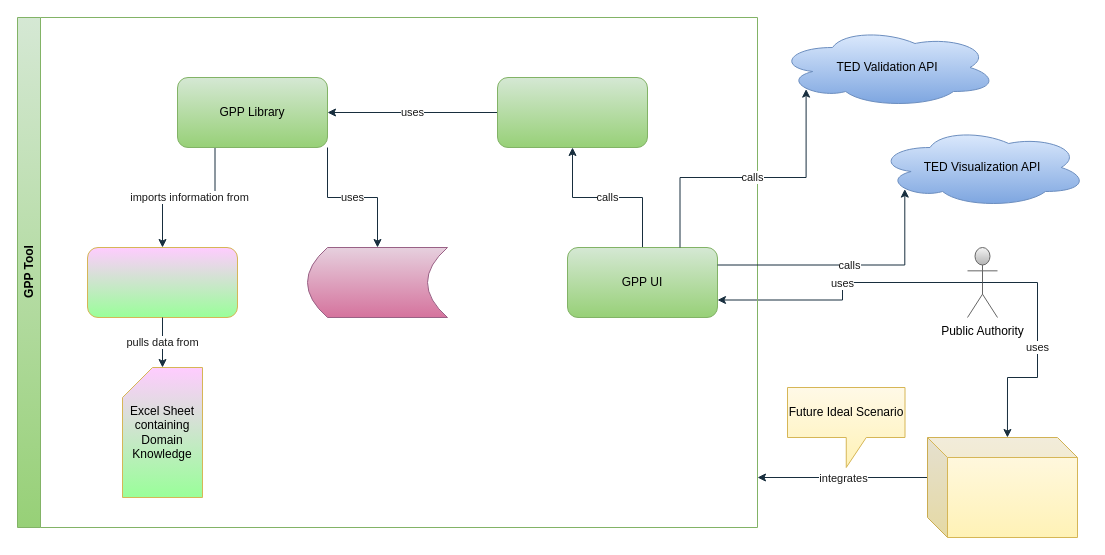
This 1105x555 diagram has some shape labels left out. The centre of each missing label's shape, as x and y in pixels:
"Domain Knowledge Integrator" belongs at pixel 162 282.
"eForms SDK" belongs at pixel 377 282.
"GPP Service" belongs at pixel 572 112.
"Other e-Procurement Platforms" belongs at pixel 1002 487.
